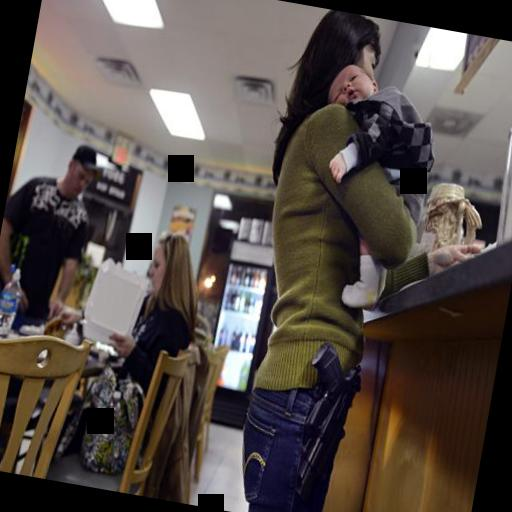Handgun: (284, 334, 368, 501)
